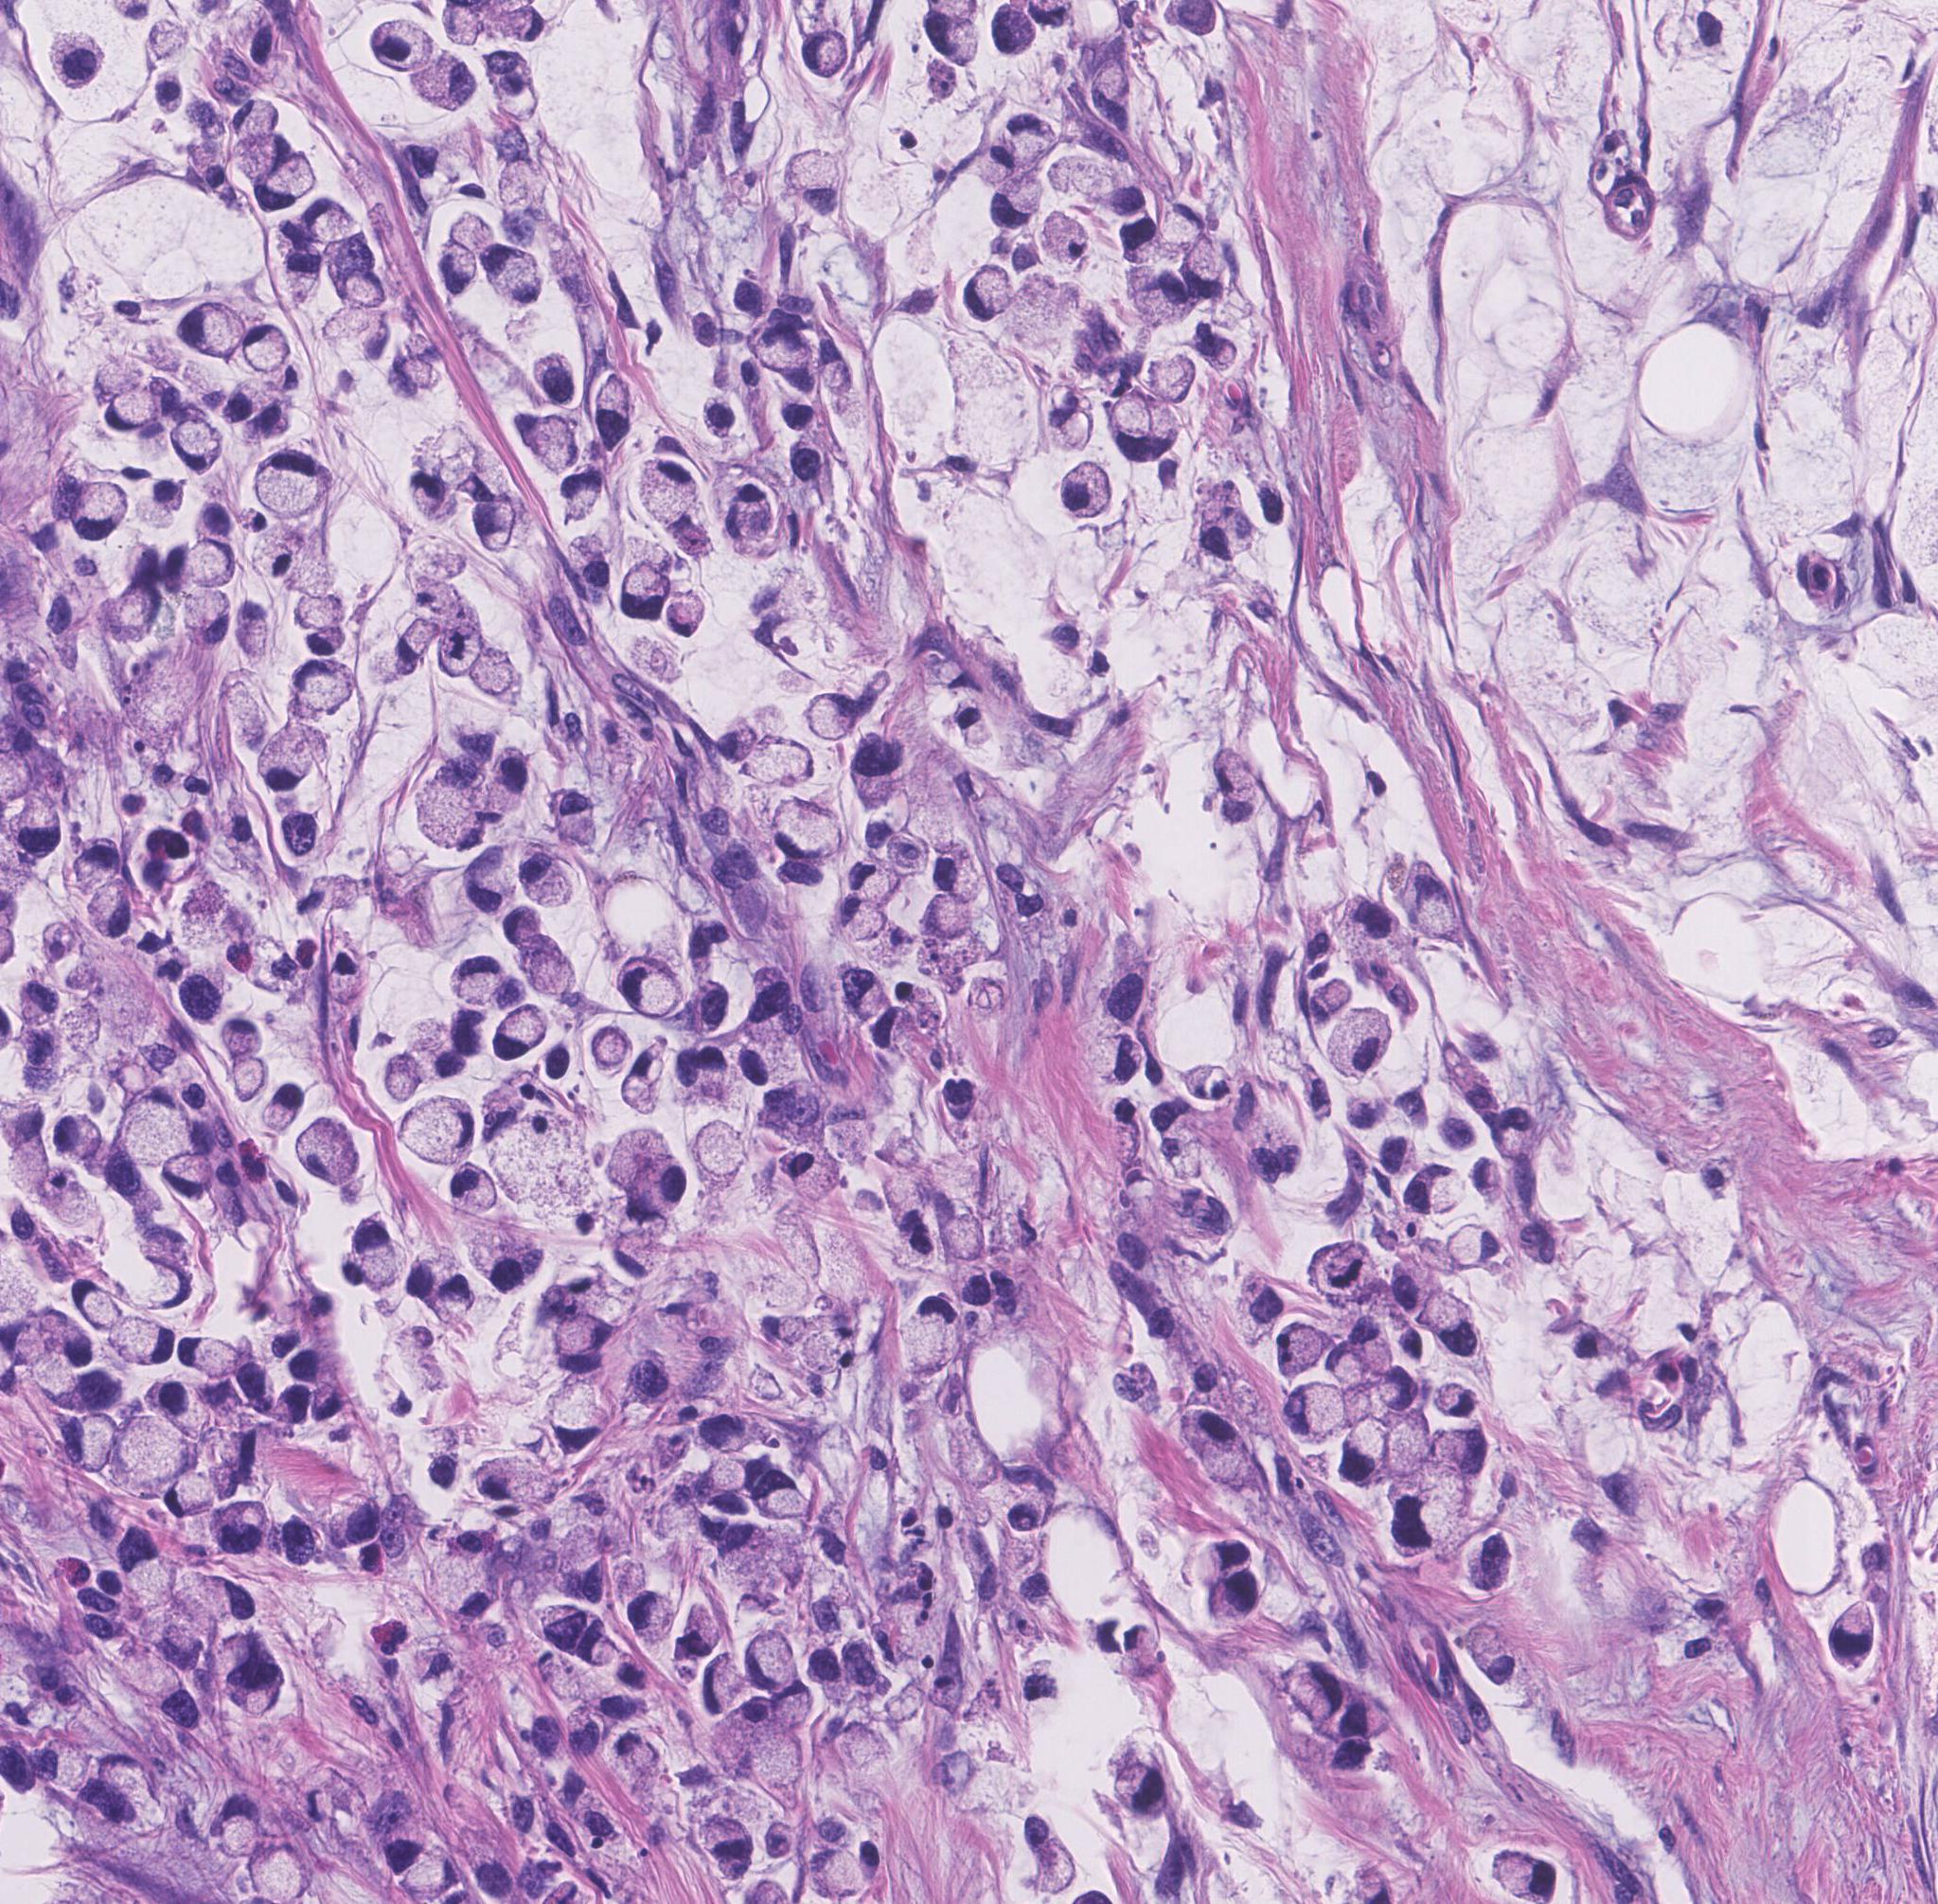ring_cell_cancer: (1394, 849, 1467, 943), (1393, 1470, 1464, 1559), (125, 1653, 202, 1733), (125, 1081, 192, 1170), (251, 452, 336, 520), (415, 776, 486, 856), (941, 1074, 1007, 1159), (399, 1097, 476, 1168), (545, 1381, 615, 1458), (465, 1227, 547, 1290), (1063, 155, 1152, 213), (1340, 898, 1415, 966), (1185, 1411, 1253, 1484), (1307, 1238, 1380, 1304), (1018, 1819, 1079, 1897), (429, 1554, 497, 1623), (617, 954, 688, 1020), (884, 1170, 938, 1257), (258, 729, 333, 792), (769, 802, 847, 861), (117, 1529, 174, 1609), (298, 1121, 363, 1191), (349, 1219, 410, 1292), (1107, 929, 1152, 1027), (1330, 1010, 1396, 1076), (71, 1778, 139, 1843), (368, 1798, 430, 1867), (246, 1841, 317, 1902), (174, 1573, 260, 1623), (19, 1316, 94, 1374), (1112, 403, 1182, 464), (911, 1290, 966, 1369), (288, 659, 359, 718), (852, 741, 911, 811), (174, 300, 246, 357), (1316, 1693, 1394, 1744), (214, 1499, 277, 1562), (565, 1789, 629, 1850), (230, 1644, 284, 1716), (749, 319, 823, 371), (329, 307, 396, 364), (824, 1102, 882, 1168), (103, 589, 171, 645), (479, 1456, 554, 1506), (641, 455, 695, 525), (71, 483, 132, 544), (99, 1756, 160, 1817), (232, 9, 289, 73), (486, 241, 544, 305), (1284, 1658, 1342, 1723), (718, 1520, 776, 1585), (113, 1318, 180, 1374), (181, 1336, 256, 1384), (519, 411, 580, 471), (594, 373, 641, 450), (1279, 1384, 1344, 1440), (331, 933, 375, 1013), (615, 1733, 669, 1798), (1429, 1292, 1481, 1358), (748, 743, 816, 793), (70, 1276, 127, 1336), (748, 1634, 803, 1695), (521, 849, 577, 910), (16, 795, 64, 865), (413, 1252, 458, 1327), (620, 560, 674, 622), (803, 689, 857, 751), (446, 952, 511, 1004), (1154, 1107, 1204, 1173), (169, 417, 227, 474), (37, 1360, 94, 1418), (549, 786, 605, 846), (371, 17, 434, 70), (1492, 1853, 1562, 1901), (1464, 1623, 1516, 1686), (9, 1109, 51, 1187), (469, 853, 521, 915), (1504, 1221, 1569, 1271), (145, 1616, 209, 1667), (1239, 1275, 1284, 1346), (932, 842, 988, 900), (746, 971, 796, 1034), (1342, 1418, 1387, 1487), (1007, 1473, 1056, 1538), (444, 603, 486, 678), (134, 1264, 200, 1311), (539, 1648, 594, 1703), (999, 113, 1056, 167), (260, 159, 319, 211), (68, 1414, 119, 1475), (1835, 1602, 1877, 1676), (1108, 1091, 1145, 1175), (627, 1044, 671, 1114), (183, 593, 235, 650), (1501, 1158, 1553, 1215), (166, 1149, 218, 1207), (253, 942, 305, 999), (922, 14, 981, 65), (966, 269, 1016, 328), (1133, 1017, 1175, 1088), (1136, 277, 1197, 326), (418, 59, 479, 108), (634, 1161, 688, 1215), (1447, 1060, 1499, 1116), (448, 1166, 504, 1219), (831, 893, 889, 943), (786, 157, 845, 206), (1471, 1531, 1514, 1597), (235, 136, 296, 183), (805, 1853, 866, 1901), (216, 1796, 263, 1857), (24, 1020, 64, 1091), (52, 33, 106, 85), (1387, 1259, 1441, 1311), (1185, 244, 1236, 300), (1391, 1414, 1434, 1479), (422, 1430, 465, 1494), (758, 1472, 816, 1520), (697, 1050, 742, 1111), (490, 753, 535, 814), (1208, 507, 1260, 560), (277, 1517, 329, 1569), (925, 894, 978, 947), (1063, 466, 1112, 521), (89, 886, 138, 942), (185, 966, 234, 1022), (331, 1501, 387, 1550), (491, 1011, 549, 1058), (1103, 1020, 1145, 1085), (1685, 1350, 1717, 1435), (434, 235, 478, 296), (613, 1231, 674, 1275), (1492, 1109, 1542, 1161), (1438, 1428, 1490, 1479), (49, 1118, 101, 1168), (1115, 1766, 1169, 1815), (629, 1590, 678, 1644), (1122, 1625, 1169, 1681), (223, 1013, 270, 1069), (683, 983, 739, 1030), (728, 1700, 776, 1756), (1204, 1571, 1264, 1615), (308, 201, 361, 249), (1352, 1315, 1394, 1376), (1042, 213, 1089, 267), (701, 1819, 756, 1864), (704, 1414, 767, 1454), (166, 1475, 223, 1519), (397, 617, 439, 677), (802, 30, 852, 78), (842, 968, 891, 1018), (1448, 1226, 1502, 1271), (871, 1011, 927, 1055), (997, 174, 1039, 232), (1267, 1116, 1309, 1173), (1089, 56, 1135, 108), (1149, 361, 1201, 406), (234, 94, 286, 139), (380, 1051, 425, 1104), (37, 1744, 91, 1787), (803, 1330, 857, 1374), (101, 392, 164, 429), (1216, 755, 1265, 802), (1277, 1327, 1326, 1374), (242, 326, 295, 370), (572, 541, 615, 593), (1197, 1540, 1257, 1578), (1126, 214, 1168, 269), (704, 1658, 746, 1712), (535, 1604, 589, 1646), (1246, 1121, 1281, 1186), (789, 1147, 835, 1196), (992, 5, 1035, 56), (681, 1606, 725, 1656), (71, 849, 125, 889), (742, 486, 781, 542), (1598, 1470, 1643, 1517), (441, 3, 490, 47), (535, 357, 579, 406), (188, 542, 237, 586), (237, 603, 272, 664), (1424, 1165, 1467, 1214), (146, 1381, 195, 1425), (279, 251, 321, 302), (809, 1649, 850, 1700), (1056, 391, 1093, 448), (1297, 1064, 1333, 1121), (411, 575, 465, 614), (141, 479, 188, 523), (476, 502, 519, 549), (415, 473, 457, 521), (572, 466, 608, 521), (1185, 1062, 1234, 1104), (295, 593, 352, 628), (450, 214, 497, 256), (1434, 1381, 1481, 1423), (19, 982, 68, 1022), (265, 1083, 305, 1132), (251, 401, 295, 445), (1379, 1369, 1420, 1414), (955, 701, 995, 748), (566, 1705, 601, 1759), (565, 1320, 615, 1357), (1473, 1153, 1508, 1205), (769, 1688, 812, 1730), (1575, 1327, 1624, 1363), (1326, 1343, 1368, 1384), (1351, 1091, 1391, 1135), (1379, 1135, 1420, 1175), (258, 537, 300, 577), (1201, 331, 1244, 370), (1197, 1196, 1236, 1240), (200, 1383, 244, 1421), (978, 139, 1014, 185), (1309, 983, 1354, 1020), (669, 596, 709, 636), (150, 21, 192, 59), (887, 835, 929, 874), (232, 1060, 268, 1100), (713, 729, 755, 764), (931, 657, 972, 692), (1399, 1086, 1431, 1130), (1408, 1173, 1438, 1219), (762, 1822, 796, 1860), (303, 1787, 343, 1820), (1704, 1158, 1739, 1194), (505, 915, 545, 947), (281, 221, 310, 260), (155, 75, 183, 115)
